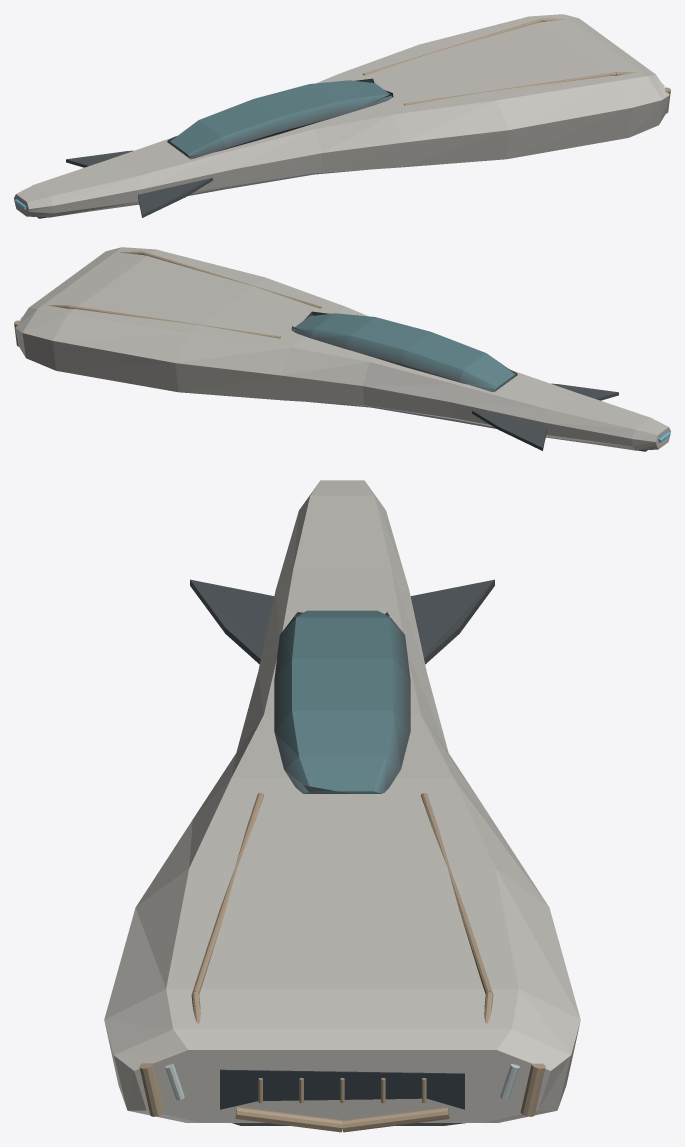
Rendered from jetjet_ivory_flight.glb.
The picture shows the model from 3 angles, top to bottom: view 1: azimuth 30°, elevation 25°; view 2: azimuth 150°, elevation 25°; view 3: azimuth 270°, elevation 25°; orthographic projection. The views are drawn at different scales.
Parts seen in each view (by area): view 1: hull_0, cockpit_frame_2, aft_fins_7, bonnet_edge_3, lower_keel_1; view 2: hull_0, cockpit_frame_2, aft_fins_7, bonnet_edge_3, lower_keel_1; view 3: hull_0, cockpit_frame_2, aft_fins_7, front_grille_8, bonnet_edge_3, front_chevron_6, front_corner_4.
Part boxes in pixels (x1=…): hull_0: x1=14, y1=14, x2=669, y2=217; cockpit_frame_2: x1=167, y1=78, x2=393, y2=159; aft_fins_7: x1=66, y1=150, x2=213, y2=217; bonnet_edge_3: x1=362, y1=18, x2=636, y2=105; lower_keel_1: x1=37, y1=169, x2=367, y2=218; hull_0: x1=15, y1=247, x2=670, y2=450; cockpit_frame_2: x1=291, y1=311, x2=517, y2=392; aft_fins_7: x1=471, y1=383, x2=618, y2=450; bonnet_edge_3: x1=48, y1=251, x2=322, y2=338; lower_keel_1: x1=310, y1=402, x2=647, y2=451; hull_0: x1=104, y1=480, x2=580, y2=1122; cockpit_frame_2: x1=274, y1=610, x2=410, y2=793; aft_fins_7: x1=190, y1=579, x2=494, y2=664; front_grille_8: x1=220, y1=1069, x2=464, y2=1109; bonnet_edge_3: x1=191, y1=793, x2=493, y2=1023; front_chevron_6: x1=235, y1=1107, x2=449, y2=1132; front_corner_4: x1=139, y1=1063, x2=545, y2=1116.
Bounding box in the file's own units: 10.21 × 1.23 × 3.5.
